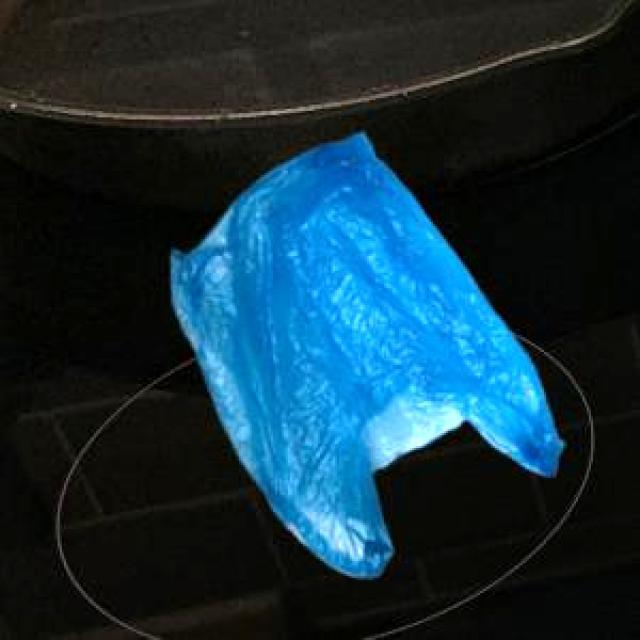Plastic_Bag: (167, 129, 560, 575)
